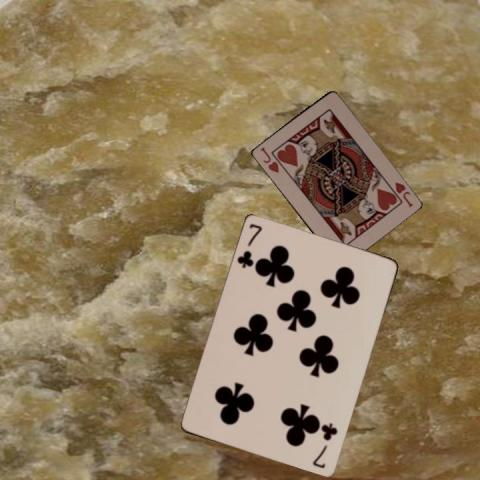7c: (234, 221, 264, 270), (310, 420, 339, 470)
Jh: (257, 144, 280, 174), (391, 178, 414, 208)
